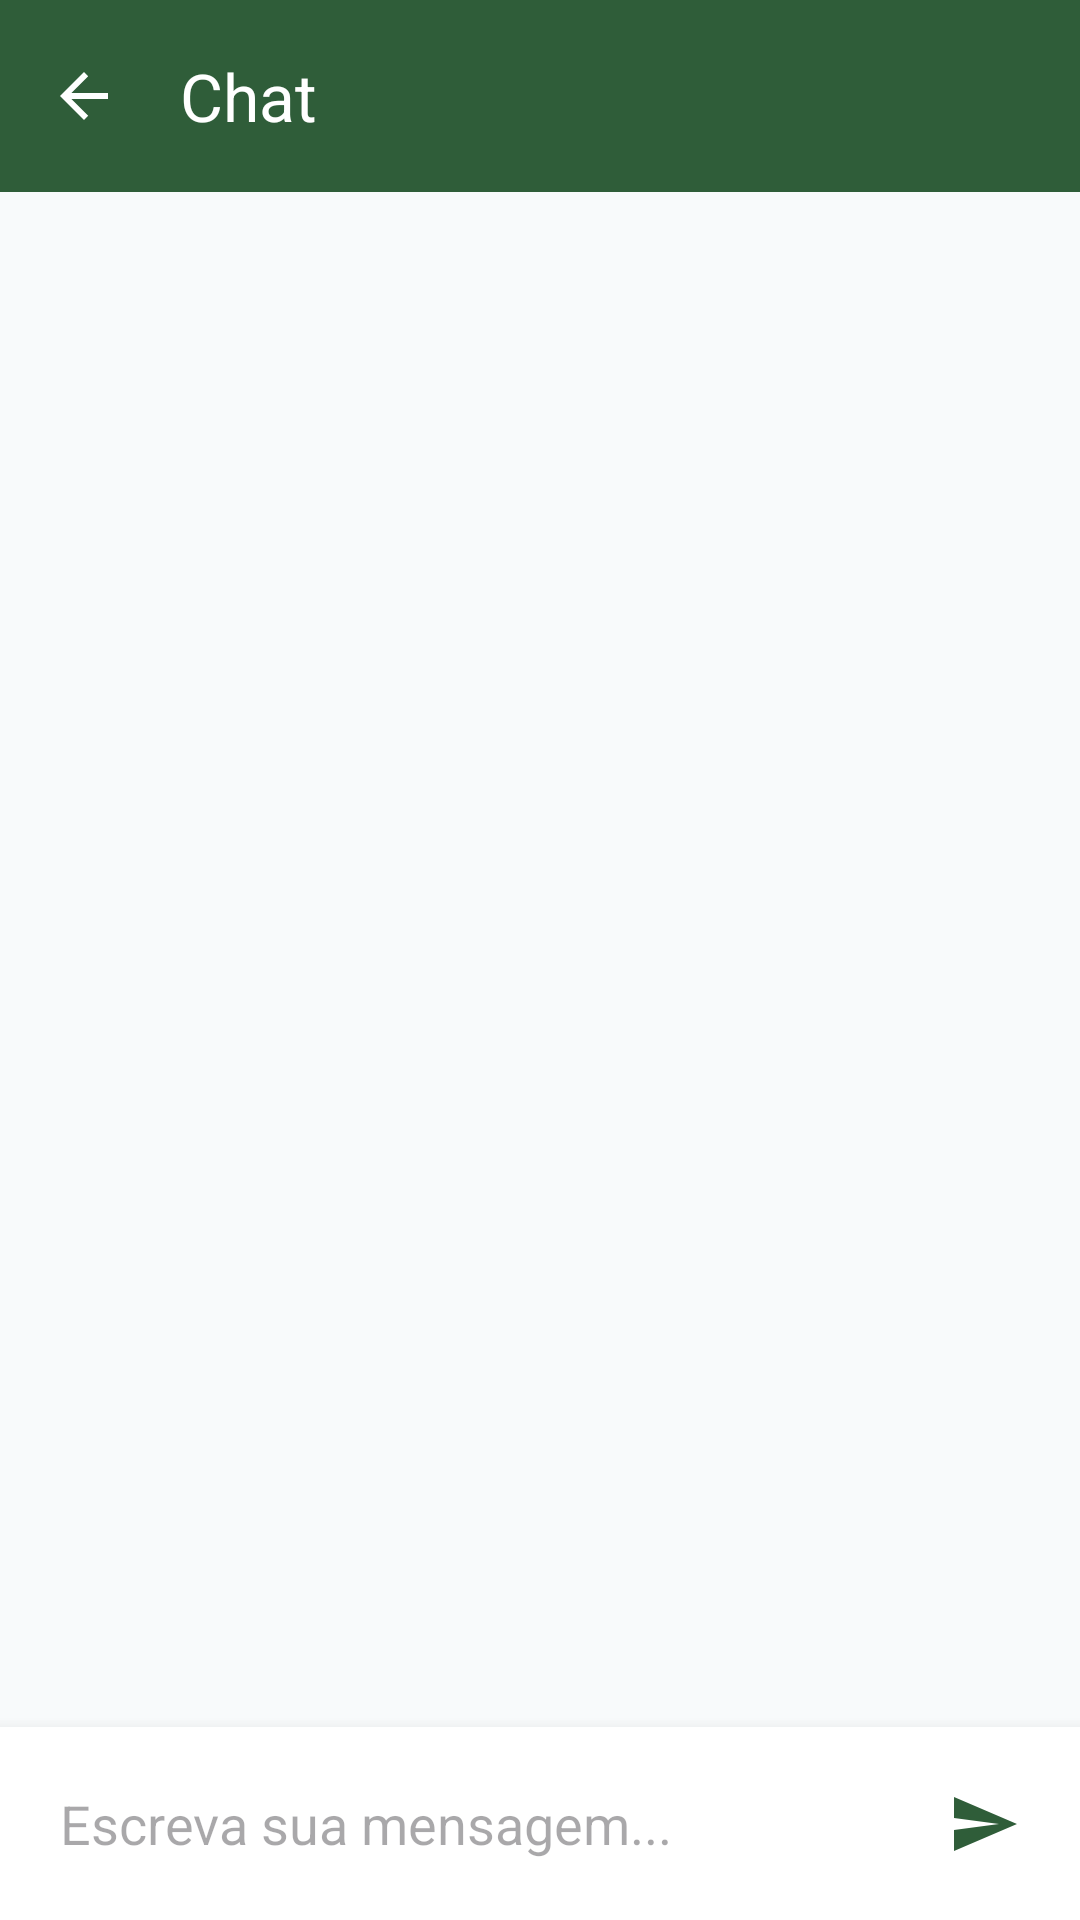

Icon bounding boxes for this 1080 x 1920 phone screenshot, format (x1, y1, x2, y2):
Enviar: (954, 1797, 1017, 1851)
